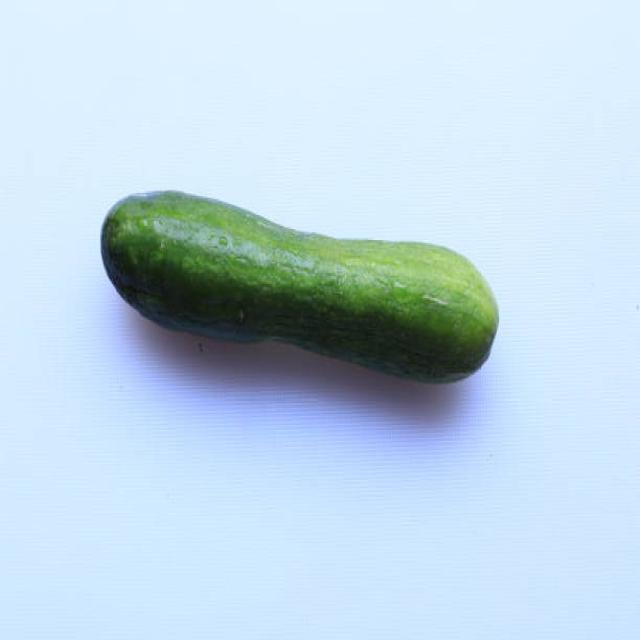cucumber: (100, 187, 500, 386)
